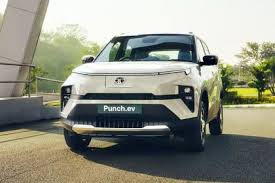XUV 400: (60, 31, 224, 153)
